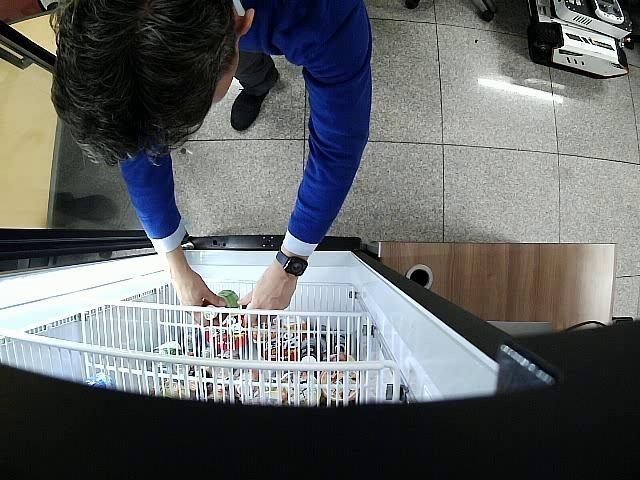19_17cha: (203, 290, 238, 320)
